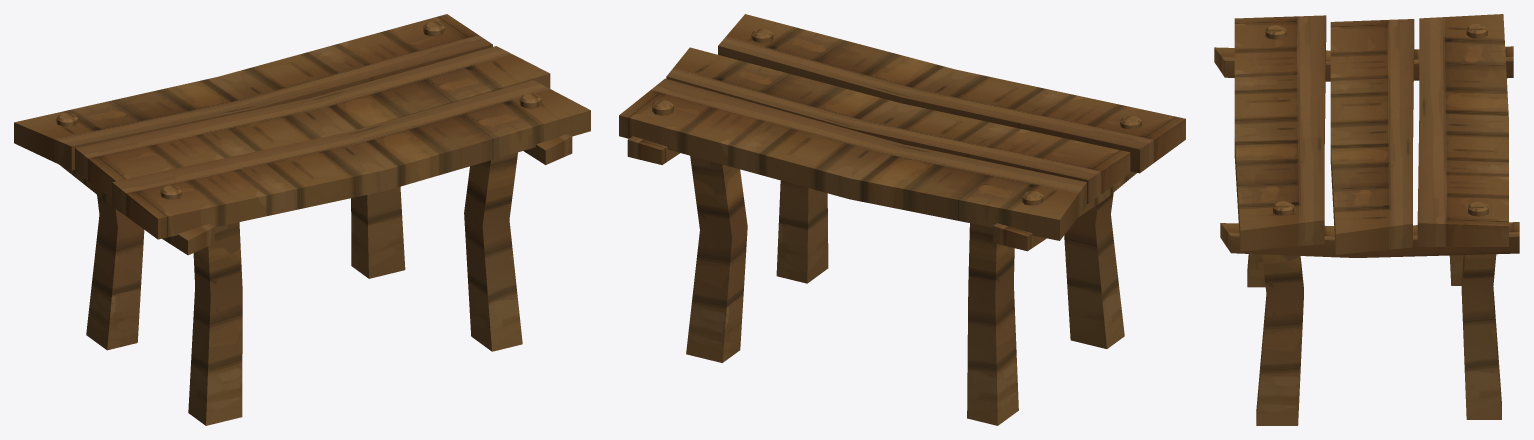
File: V_Table_wood.FBX
3 renders of one model, left to right at view 1: azimuth 30°, elevation 25°; view 2: azimuth 150°, elevation 25°; view 3: azimuth 270°, elevation 25°, orthographic.
Parts seen in each view (by area): view 1: Box029; view 2: Box029; view 3: Box029.
Part boxes in pixels (x1,y1,x2,y2): Box029: (14, 14, 590, 425); Box029: (619, 14, 1185, 425); Box029: (1214, 14, 1519, 425).
Bounding box in the file's own units: 56.3 × 27.63 × 32.99.
